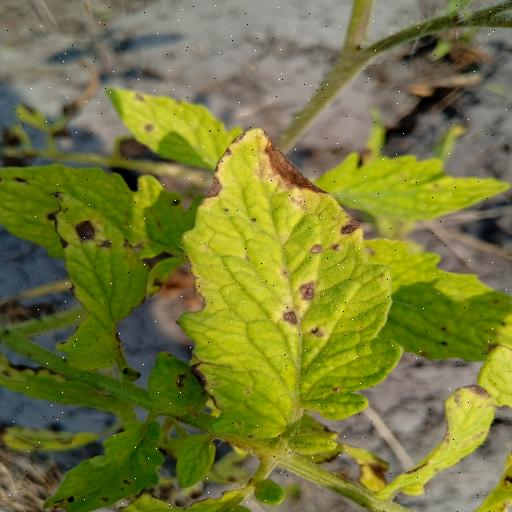Tomato_Brown_Spots: (178, 118, 406, 454), (50, 186, 148, 337), (109, 82, 263, 172), (310, 152, 512, 216)
